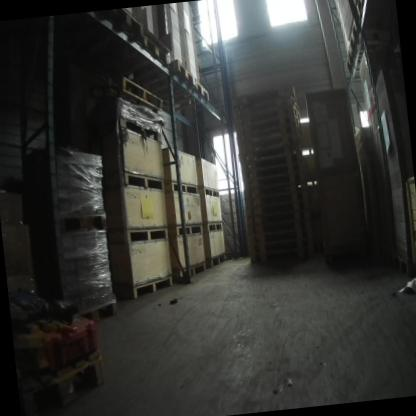pallet: (206, 220, 412, 279), (14, 347, 107, 416), (94, 63, 163, 116), (22, 208, 107, 241), (130, 58, 196, 99), (94, 6, 145, 44), (346, 12, 392, 53), (161, 77, 210, 112), (117, 109, 163, 146), (121, 165, 165, 196), (77, 296, 119, 328), (132, 273, 173, 300), (142, 30, 171, 68), (126, 224, 168, 244), (179, 260, 207, 282), (344, 44, 366, 72), (171, 177, 200, 198), (175, 222, 203, 236), (203, 184, 220, 201), (355, 0, 370, 19), (210, 251, 227, 267)
